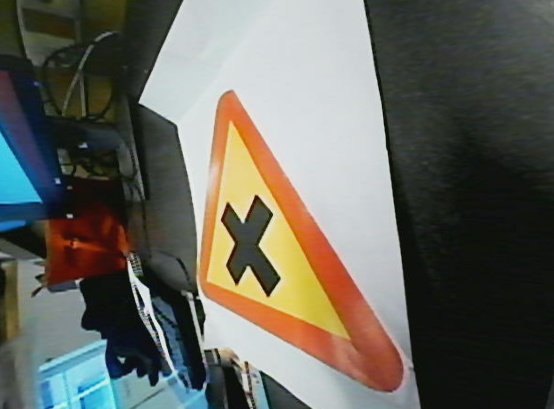junction: (172, 85, 414, 402)
